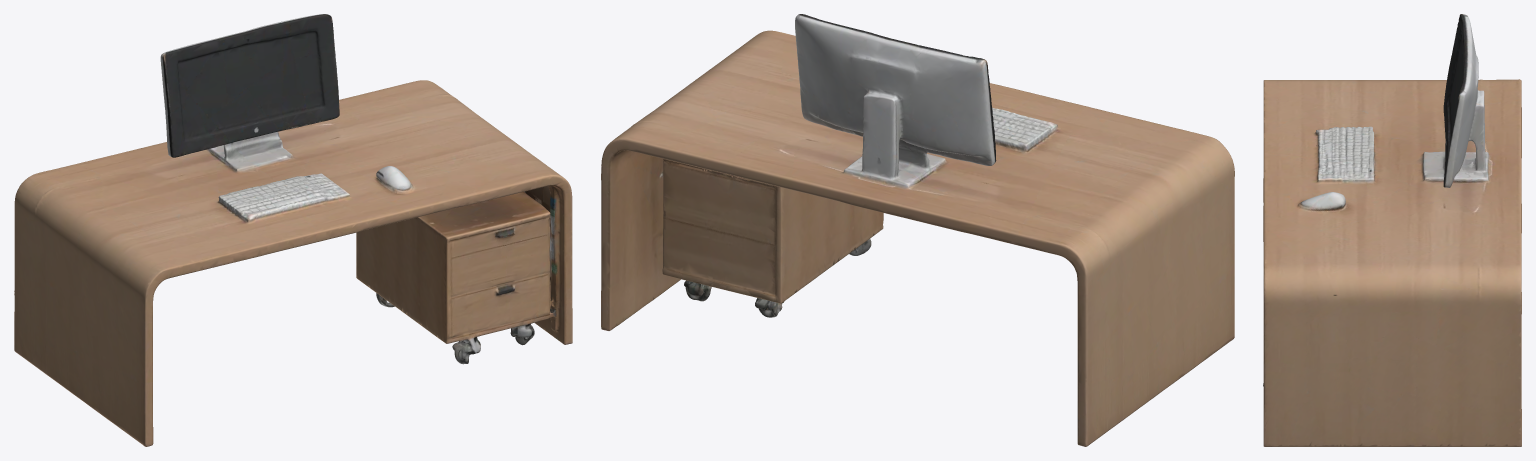
The model's file is desk.glb.
3 views of the same model, side by side, from view 1: azimuth 30°, elevation 25°; view 2: azimuth 150°, elevation 25°; view 3: azimuth 270°, elevation 25° (orthographic). The views are drawn at different scales.
Size of the model in its own units: 2 by 1.3 by 1.06.
Materials: 1 (1 with a texture image).
